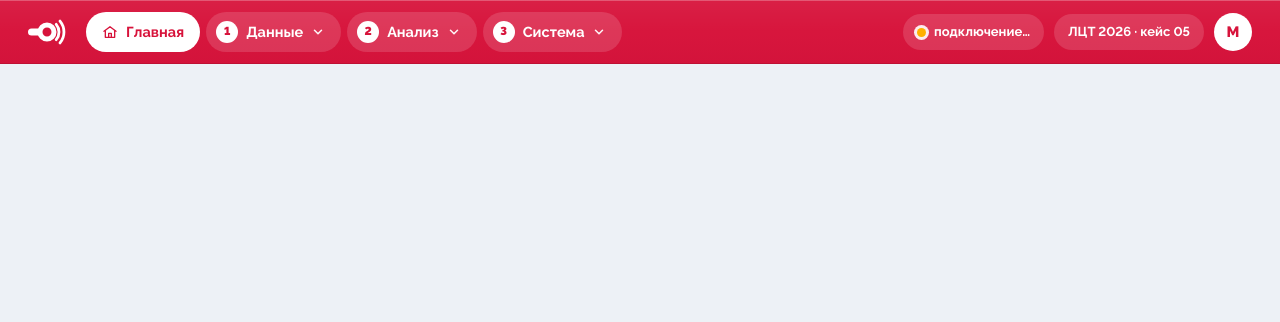
Test: TopBar › moves to the neighbouring group with ArrowRight while open
Click the button "1 Данные": (274, 32) [206,12,341,52]
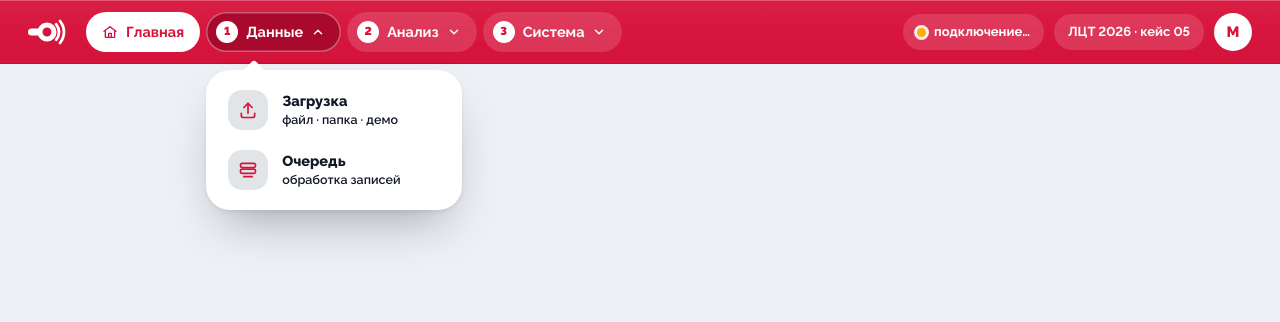
Now the button "1 Данные" is expanded, box [206,12,341,52]
Press ArrowRight in the menu named "Данные", box [206,70,462,210]
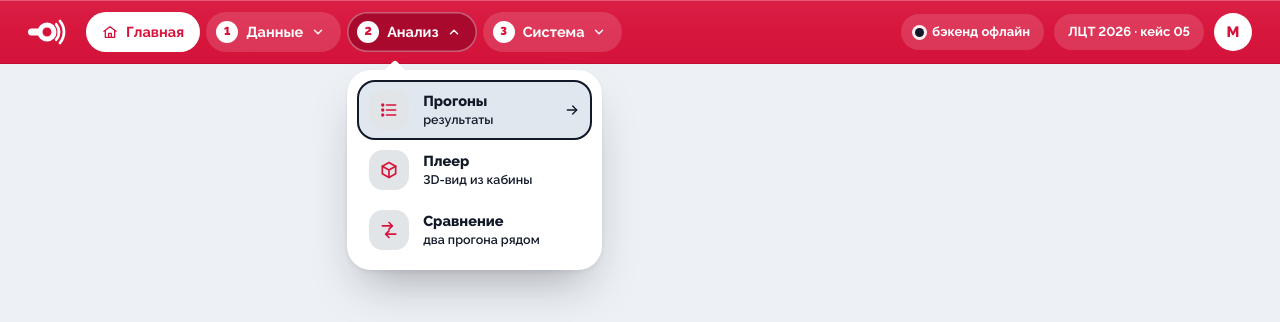
Now the button "1 Данные" is collapsed, box [206,12,341,52]
Now the button "2 Анализ" is expanded, box [347,12,477,52]
